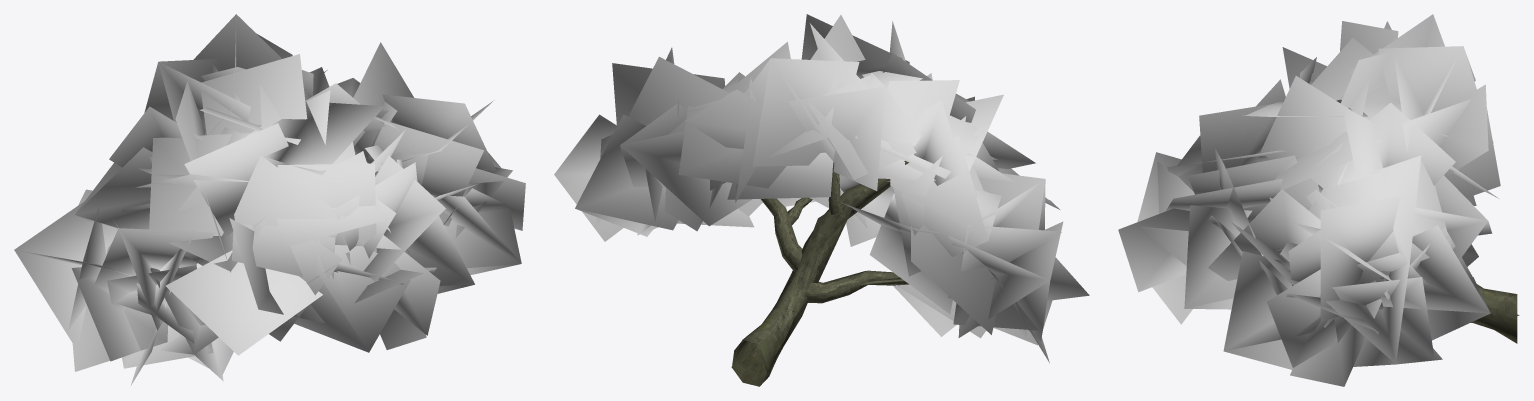
The model's file is plants_un_clifftree01.gltf.
3 views of the same model, side by side, from view 1: azimuth 30°, elevation 25°; view 2: azimuth 150°, elevation 25°; view 3: azimuth 270°, elevation 25° (orthographic). The views are drawn at different scales.
Visible parts, largest first — view 1: um_plants_un_clifftree01_model_lod0Shape:plants_cliffgrass01, um_plants_un_clifftree01_model_lod2Shape:plants_cliffgrass01, um_plants_un_clifftree01_model_lod1Shape:plants_cliffgrass01; view 2: um_plants_un_clifftree01_model_lod0Shape:plants_cliffgrass01, um_plants_un_clifftree01_model_lod0Shape:plants_un_clifftree, um_plants_un_clifftree01_model_lod1Shape:plants_un_clifftree, um_plants_un_clifftree01_model_lod2Shape:plants_cliffgrass01, um_plants_un_clifftree01_model_lod2Shape:plants_un_clifftree, um_plants_un_clifftree01_model_lod1Shape:plants_cliffgrass01; view 3: um_plants_un_clifftree01_model_lod0Shape:plants_cliffgrass01, um_plants_un_clifftree01_model_lod1Shape:plants_cliffgrass01, um_plants_un_clifftree01_model_lod0Shape:plants_un_clifftree, um_plants_un_clifftree01_model_lod2Shape:plants_cliffgrass01, um_plants_un_clifftree01_model_lod1Shape:plants_un_clifftree.
Boxes of the visible parts, bbox=[...] form: um_plants_un_clifftree01_model_lod0Shape:plants_cliffgrass01: bbox=[14, 15, 525, 385]; um_plants_un_clifftree01_model_lod2Shape:plants_cliffgrass01: bbox=[165, 94, 495, 355]; um_plants_un_clifftree01_model_lod1Shape:plants_cliffgrass01: bbox=[159, 14, 281, 354]; um_plants_un_clifftree01_model_lod0Shape:plants_cliffgrass01: bbox=[554, 15, 1089, 363]; um_plants_un_clifftree01_model_lod0Shape:plants_un_clifftree: bbox=[732, 161, 908, 386]; um_plants_un_clifftree01_model_lod1Shape:plants_un_clifftree: bbox=[731, 162, 908, 386]; um_plants_un_clifftree01_model_lod2Shape:plants_cliffgrass01: bbox=[672, 14, 1059, 209]; um_plants_un_clifftree01_model_lod2Shape:plants_un_clifftree: bbox=[758, 179, 903, 373]; um_plants_un_clifftree01_model_lod1Shape:plants_cliffgrass01: bbox=[892, 272, 986, 338]; um_plants_un_clifftree01_model_lod0Shape:plants_cliffgrass01: bbox=[1118, 14, 1500, 386]; um_plants_un_clifftree01_model_lod1Shape:plants_cliffgrass01: bbox=[1412, 49, 1488, 337]; um_plants_un_clifftree01_model_lod0Shape:plants_un_clifftree: bbox=[1474, 287, 1517, 343]; um_plants_un_clifftree01_model_lod2Shape:plants_cliffgrass01: bbox=[1242, 57, 1398, 210]; um_plants_un_clifftree01_model_lod1Shape:plants_un_clifftree: bbox=[1471, 284, 1517, 337].
Size of the model in its own units: 9.03 by 5.31 by 6.3.
2 materials, 1 textured.
